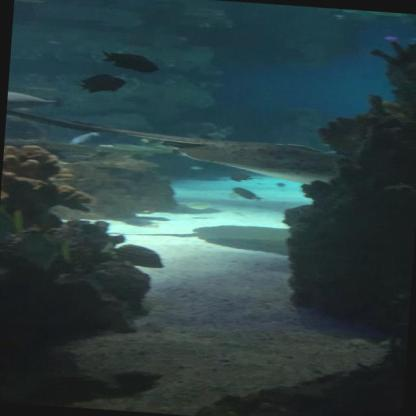fish: (15, 230, 72, 268), (96, 48, 162, 76), (107, 241, 165, 269), (73, 69, 130, 97), (7, 88, 65, 114), (0, 202, 25, 237), (229, 185, 266, 202), (184, 198, 221, 213), (227, 171, 255, 183), (189, 166, 204, 170)
stingray: (173, 136, 356, 188)
